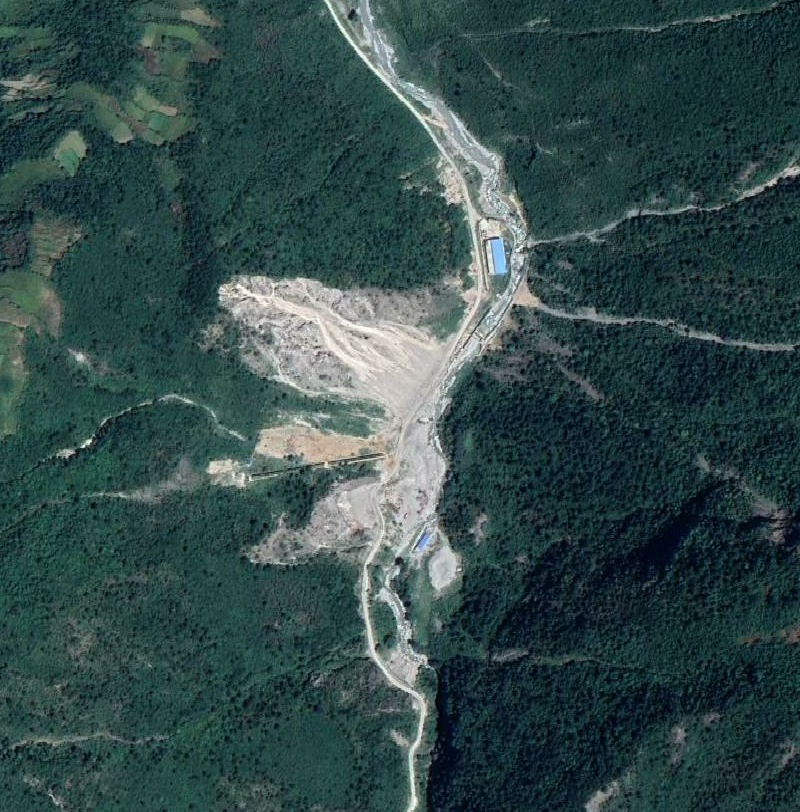slope: (216, 266, 448, 410), (248, 476, 378, 566), (255, 419, 372, 463), (422, 530, 460, 594), (201, 459, 249, 489), (513, 280, 543, 314)
